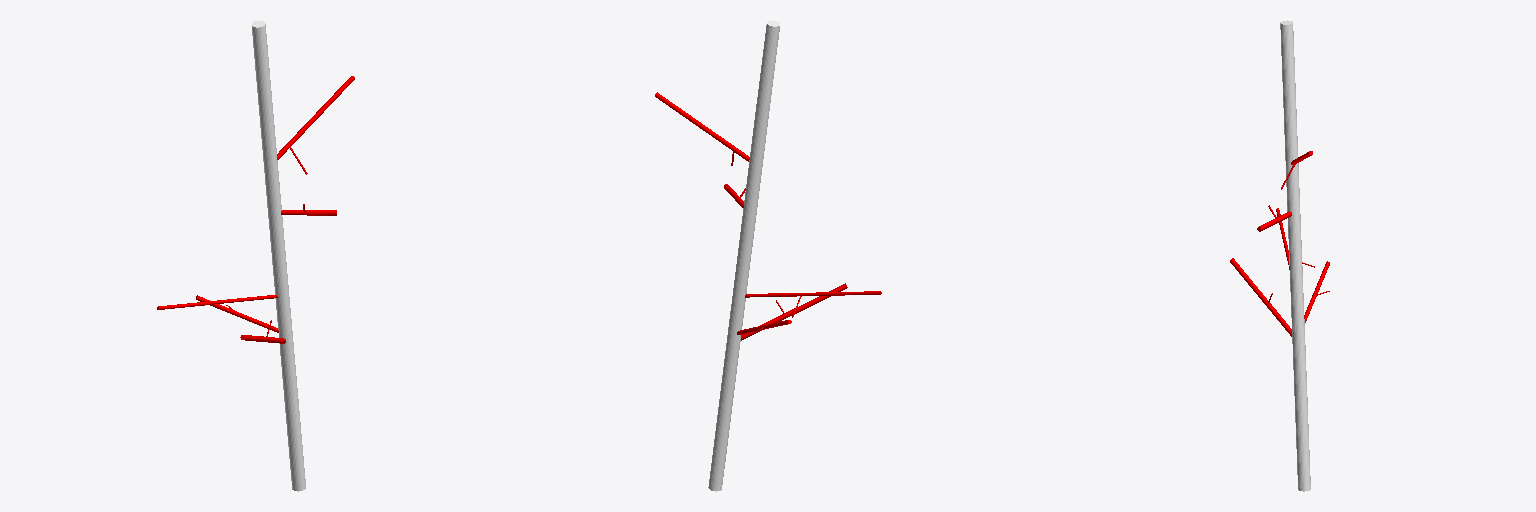
URDF robot description (tree_11.urdf):
<?xml version='1.0' encoding='UTF-8'?>
<robot name="tree_11.urdf">
  <link name="branch_0">
    <inertial>
      <origin xyz="0.0 0.0 0.0" rpy="0.0 -0.0 0.0"/>
      <mass value="0.1"/>
      <inertia ixx="0.001" ixy="0.0" ixz="0.0" iyy="0.001" iyz="0.0" izz="0.001"/>
    </inertial>
    <visual name="branch_0_visual">
      <geometry>
        <cylinder radius="0.15145847115865949" length="11.49528617467368"/>
      </geometry>
      <material name="branch_material"/>
      <origin xyz="-0.6224803167305477 -0.20772165704923864 5.710058758707017" rpy="-6.58208844374926e-18 0.11442223905836633 -2.81951217112393"/>
    </visual>
    <collision name="branch_0_collision">
      <geometry>
        <cylinder radius="0.15145847115865949" length="11.49528617467368"/>
      </geometry>
      <origin xyz="-0.6224803167305477 -0.20772165704923864 5.710058758707017" rpy="-6.58208844374926e-18 0.11442223905836633 -2.81951217112393"/>
    </collision>
  </link>
  <link name="branch_1">
    <inertial>
      <origin xyz="0.0 0.0 0.0" rpy="0.0 -0.0 0.0"/>
      <mass value="0.1"/>
      <inertia ixx="0.001" ixy="0.0" ixz="0.0" iyy="0.001" iyz="0.0" izz="0.001"/>
    </inertial>
    <visual name="branch_1_visual">
      <geometry>
        <cylinder radius="0.03976724827073267" length="3.4373460157810523"/>
      </geometry>
      <material name="semantic_material"/>
      <origin xyz="0.0 0.0 0.0" rpy="0.0 -0.0 0.0"/>
    </visual>
    <collision name="branch_1_collision">
      <geometry>
        <cylinder radius="0.03976724827073267" length="3.4373460157810523"/>
      </geometry>
      <origin xyz="0.0 0.0 0.0" rpy="0.0 -0.0 0.0"/>
    </collision>
  </link>
  <link name="branch_2">
    <inertial>
      <origin xyz="0.0 0.0 0.0" rpy="0.0 -0.0 0.0"/>
      <mass value="0.1"/>
      <inertia ixx="0.001" ixy="0.0" ixz="0.0" iyy="0.001" iyz="0.0" izz="0.001"/>
    </inertial>
    <visual name="branch_2_visual">
      <geometry>
        <cylinder radius="0.01527098776257522" length="0.6831904197324906"/>
      </geometry>
      <material name="semantic_material"/>
      <origin xyz="0.0 0.0 0.0" rpy="0.0 -0.0 0.0"/>
    </visual>
    <collision name="branch_2_collision">
      <geometry>
        <cylinder radius="0.01527098776257522" length="0.6831904197324906"/>
      </geometry>
      <origin xyz="0.0 0.0 0.0" rpy="0.0 -0.0 0.0"/>
    </collision>
  </link>
  <link name="branch_3">
    <inertial>
      <origin xyz="0.0 0.0 0.0" rpy="0.0 -0.0 0.0"/>
      <mass value="0.1"/>
      <inertia ixx="0.001" ixy="0.0" ixz="0.0" iyy="0.001" iyz="0.0" izz="0.001"/>
    </inertial>
    <visual name="branch_3_visual">
      <geometry>
        <cylinder radius="0.049069090640792526" length="2.1733344204270852"/>
      </geometry>
      <material name="semantic_material"/>
      <origin xyz="0.0 0.0 0.0" rpy="0.0 -0.0 0.0"/>
    </visual>
    <collision name="branch_3_collision">
      <geometry>
        <cylinder radius="0.049069090640792526" length="2.1733344204270852"/>
      </geometry>
      <origin xyz="0.0 0.0 0.0" rpy="0.0 -0.0 0.0"/>
    </collision>
  </link>
  <link name="branch_4">
    <inertial>
      <origin xyz="0.0 0.0 0.0" rpy="0.0 -0.0 0.0"/>
      <mass value="0.1"/>
      <inertia ixx="0.001" ixy="0.0" ixz="0.0" iyy="0.001" iyz="0.0" izz="0.001"/>
    </inertial>
    <visual name="branch_4_visual">
      <geometry>
        <cylinder radius="0.013912529770044759" length="0.36994134618885005"/>
      </geometry>
      <material name="semantic_material"/>
      <origin xyz="0.0 0.0 0.0" rpy="0.0 -0.0 0.0"/>
    </visual>
    <collision name="branch_4_collision">
      <geometry>
        <cylinder radius="0.013912529770044759" length="0.36994134618885005"/>
      </geometry>
      <origin xyz="0.0 0.0 0.0" rpy="0.0 -0.0 0.0"/>
    </collision>
  </link>
  <link name="branch_5">
    <inertial>
      <origin xyz="0.0 0.0 0.0" rpy="0.0 -0.0 0.0"/>
      <mass value="0.1"/>
      <inertia ixx="0.001" ixy="0.0" ixz="0.0" iyy="0.001" iyz="0.0" izz="0.001"/>
    </inertial>
    <visual name="branch_5_visual">
      <geometry>
        <cylinder radius="0.05484898978376645" length="2.6973036155267693"/>
      </geometry>
      <material name="semantic_material"/>
      <origin xyz="0.0 0.0 0.0" rpy="0.0 -0.0 0.0"/>
    </visual>
    <collision name="branch_5_collision">
      <geometry>
        <cylinder radius="0.05484898978376645" length="2.6973036155267693"/>
      </geometry>
      <origin xyz="0.0 0.0 0.0" rpy="0.0 -0.0 0.0"/>
    </collision>
  </link>
  <link name="branch_6">
    <inertial>
      <origin xyz="0.0 0.0 0.0" rpy="0.0 -0.0 0.0"/>
      <mass value="0.1"/>
      <inertia ixx="0.001" ixy="0.0" ixz="0.0" iyy="0.001" iyz="0.0" izz="0.001"/>
    </inertial>
    <visual name="branch_6_visual">
      <geometry>
        <cylinder radius="0.020991812219143428" length="0.7397917622218226"/>
      </geometry>
      <material name="semantic_material"/>
      <origin xyz="0.0 0.0 0.0" rpy="0.0 -0.0 0.0"/>
    </visual>
    <collision name="branch_6_collision">
      <geometry>
        <cylinder radius="0.020991812219143428" length="0.7397917622218226"/>
      </geometry>
      <origin xyz="0.0 0.0 0.0" rpy="0.0 -0.0 0.0"/>
    </collision>
  </link>
  <link name="branch_7">
    <inertial>
      <origin xyz="0.0 0.0 0.0" rpy="0.0 -0.0 0.0"/>
      <mass value="0.1"/>
      <inertia ixx="0.001" ixy="0.0" ixz="0.0" iyy="0.001" iyz="0.0" izz="0.001"/>
    </inertial>
    <visual name="branch_7_visual">
      <geometry>
        <cylinder radius="0.060544661265656656" length="1.3398891017512262"/>
      </geometry>
      <material name="semantic_material"/>
      <origin xyz="0.0 0.0 0.0" rpy="0.0 -0.0 0.0"/>
    </visual>
    <collision name="branch_7_collision">
      <geometry>
        <cylinder radius="0.060544661265656656" length="1.3398891017512262"/>
      </geometry>
      <origin xyz="0.0 0.0 0.0" rpy="0.0 -0.0 0.0"/>
    </collision>
  </link>
  <link name="branch_8">
    <inertial>
      <origin xyz="0.0 0.0 0.0" rpy="0.0 -0.0 0.0"/>
      <mass value="0.1"/>
      <inertia ixx="0.001" ixy="0.0" ixz="0.0" iyy="0.001" iyz="0.0" izz="0.001"/>
    </inertial>
    <visual name="branch_8_visual">
      <geometry>
        <cylinder radius="0.02112731781375588" length="0.3898211181993687"/>
      </geometry>
      <material name="semantic_material"/>
      <origin xyz="0.0 0.0 0.0" rpy="0.0 -0.0 0.0"/>
    </visual>
    <collision name="branch_8_collision">
      <geometry>
        <cylinder radius="0.02112731781375588" length="0.3898211181993687"/>
      </geometry>
      <origin xyz="0.0 0.0 0.0" rpy="0.0 -0.0 0.0"/>
    </collision>
  </link>
  <link name="branch_9">
    <inertial>
      <origin xyz="0.0 0.0 0.0" rpy="0.0 -0.0 0.0"/>
      <mass value="0.1"/>
      <inertia ixx="0.001" ixy="0.0" ixz="0.0" iyy="0.001" iyz="0.0" izz="0.001"/>
    </inertial>
    <visual name="branch_9_visual">
      <geometry>
        <cylinder radius="0.059895868328859805" length="2.780464570913985"/>
      </geometry>
      <material name="semantic_material"/>
      <origin xyz="0.0 0.0 0.0" rpy="0.0 -0.0 0.0"/>
    </visual>
    <collision name="branch_9_collision">
      <geometry>
        <cylinder radius="0.059895868328859805" length="2.780464570913985"/>
      </geometry>
      <origin xyz="0.0 0.0 0.0" rpy="0.0 -0.0 0.0"/>
    </collision>
  </link>
  <link name="branch_10">
    <inertial>
      <origin xyz="0.0 0.0 0.0" rpy="0.0 -0.0 0.0"/>
      <mass value="0.1"/>
      <inertia ixx="0.001" ixy="0.0" ixz="0.0" iyy="0.001" iyz="0.0" izz="0.001"/>
    </inertial>
    <visual name="branch_10_visual">
      <geometry>
        <cylinder radius="0.015550150399110447" length="0.4223566970023639"/>
      </geometry>
      <material name="semantic_material"/>
      <origin xyz="0.0 0.0 0.0" rpy="0.0 -0.0 0.0"/>
    </visual>
    <collision name="branch_10_collision">
      <geometry>
        <cylinder radius="0.015550150399110447" length="0.4223566970023639"/>
      </geometry>
      <origin xyz="0.0 0.0 0.0" rpy="0.0 -0.0 0.0"/>
    </collision>
  </link>
  <joint name="joint_0_1" type="fixed">
    <parent link="branch_0"/>
    <child link="branch_1"/>
    <axis xyz="1. 0. 0."/>
    <origin xyz="-2.186175640905886 -0.39915808429690425 5.063266292432621" rpy="-0.1120197338193349 1.3741135949082224 -3.1206797347674855"/>
  </joint>
  <joint name="joint_0_3" type="fixed">
    <parent link="branch_0"/>
    <child link="branch_3"/>
    <axis xyz="1. 0. 0."/>
    <origin xyz="-1.3154187327030693 0.20863805151737355 4.294366797677925" rpy="-0.1650455448598776 1.0877970652093156 2.588512332204811"/>
  </joint>
  <joint name="joint_0_5" type="fixed">
    <parent link="branch_0"/>
    <child link="branch_5"/>
    <axis xyz="1. 0. 0."/>
    <origin xyz="0.2799408458095535 -0.06962005325706903 8.63851467167376" rpy="0.028620349123152616 1.0489886944420481 0.2224451927043086"/>
  </joint>
  <joint name="joint_0_7" type="fixed">
    <parent link="branch_0"/>
    <child link="branch_7"/>
    <axis xyz="1. 0. 0."/>
    <origin xyz="-0.20489792907591384 -0.6492029576628257 6.8150675751381655" rpy="1.142816378902863 1.4673827447568584 0.4999711909189133"/>
  </joint>
  <joint name="joint_0_9" type="fixed">
    <parent link="branch_0"/>
    <child link="branch_9"/>
    <axis xyz="1. 0. 0."/>
    <origin xyz="-1.3805403030804404 -0.913458304635398 4.201231077848373" rpy="0.09698769156672685 1.1307980863292308 -2.3642986995238333"/>
  </joint>
  <joint name="joint_1_2" type="fixed">
    <parent link="branch_0"/>
    <child link="branch_2"/>
    <axis xyz="1. 0. 0."/>
    <origin xyz="-2.0430802984837038 -0.06765857675241956 4.878537471468355" rpy="-2.013085634376112 0.18622606071400533 0.11521690438463496"/>
  </joint>
  <joint name="joint_3_4" type="fixed">
    <parent link="branch_0"/>
    <child link="branch_4"/>
    <axis xyz="1. 0. 0."/>
    <origin xyz="-1.412571320603735 0.4060942560025865 4.3750843309604335" rpy="-1.287136432788193 0.38769888378504863 0.322783988684549"/>
  </joint>
  <joint name="joint_5_6" type="fixed">
    <parent link="branch_0"/>
    <child link="branch_6"/>
    <axis xyz="1. 0. 0."/>
    <origin xyz="-0.24283813183567404 -0.3684141683109913 7.958376786548554" rpy="-2.6217989362694496 0.35273385836390714 -3.064555400378235"/>
  </joint>
  <joint name="joint_7_8" type="fixed">
    <parent link="branch_0"/>
    <child link="branch_8"/>
    <axis xyz="1. 0. 0."/>
    <origin xyz="-0.2953345487955283 -0.7328449452324117 6.966188199638309" rpy="-0.6727755100455682 -0.016481842065391057 2.5440268833230646"/>
  </joint>
  <joint name="joint_9_10" type="fixed">
    <parent link="branch_0"/>
    <child link="branch_10"/>
    <axis xyz="1. 0. 0."/>
    <origin xyz="-1.2107665536841357 -0.7986788576214803 4.337398428772725" rpy="0.07672199330728774 0.5161612634868522 0.6768147930086463"/>
  </joint>
  <material name="branch_material">
    <color rgba="1. 1. 1. 1."/>
  </material>
  <material name="semantic_material">
    <color rgba="1. 0. 0. 1."/>
  </material>
</robot>

--- What the picture shows (computed from the rendered views, not written in the file) ---
3 views of the same robot in one strip: view 1: azimuth 30°, elevation 25°; view 2: azimuth 150°, elevation 25°; view 3: azimuth 270°, elevation 25° (orthographic).
Model tree_11.urdf with 11 links and 10 joints (10 fixed), rooted at branch_0, posed every joint at zero.
Links seen in each view (by area): view 1: branch_0, branch_5; view 2: branch_0, branch_5; view 3: branch_0.
Boxes of the visible links, left/top/right/bottom form: branch_0: left=252, top=20, right=305, bottom=491; branch_5: left=277, top=76, right=354, bottom=159; branch_0: left=708, top=20, right=779, bottom=491; branch_5: left=655, top=92, right=749, bottom=161; branch_0: left=1280, top=20, right=1310, bottom=491.
Bounding box of the posed robot: 5.32 × 2.35 × 11.45 m (x, y, z).
Geometry: primitives only (box / cylinder / sphere), no mesh files.
